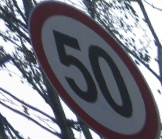Speed limit: (30, 7, 150, 133)
